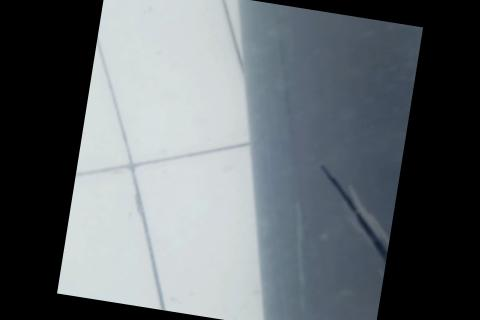keretakan: (297, 163, 399, 299)
